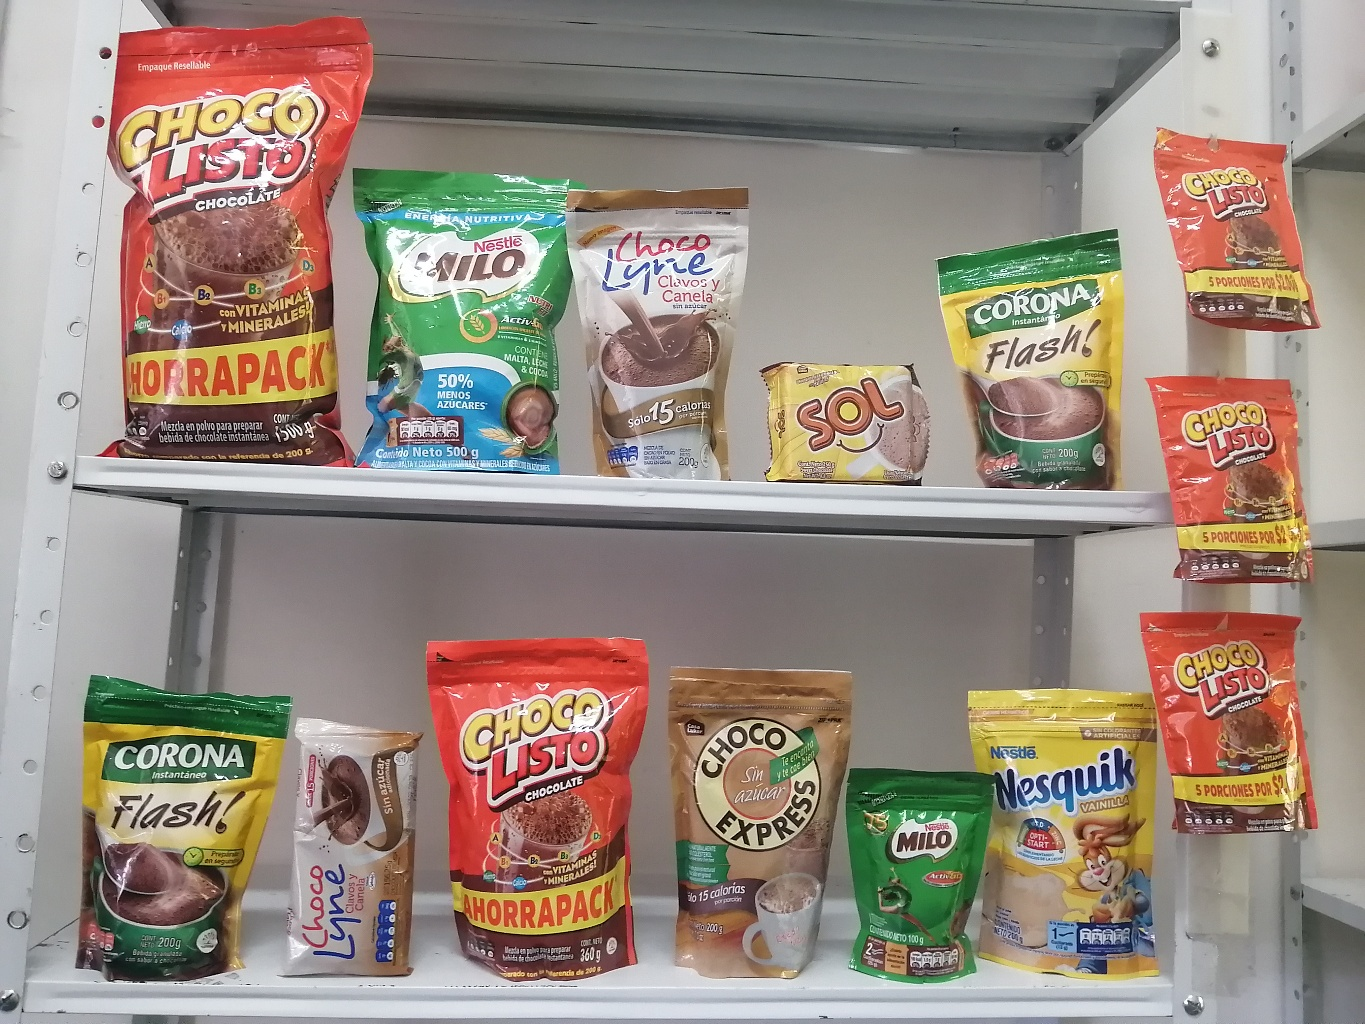COL0170103DYP1,500: (67, 18, 392, 477)
COL0170103DYP36000: (402, 622, 662, 984)
COL0170203DYP10000: (830, 753, 1007, 991)
COL0170205DYP50000: (309, 141, 589, 477)
COL0170306DYP20000: (961, 666, 1184, 997)
